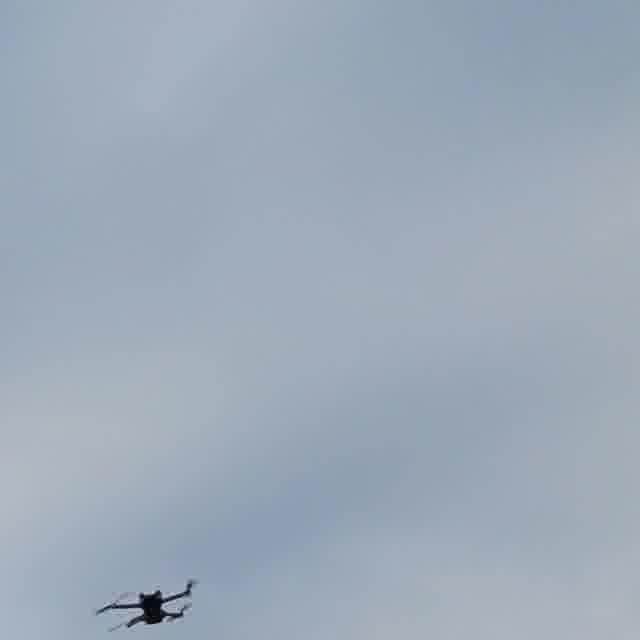Drohne: (96, 580, 195, 630)
